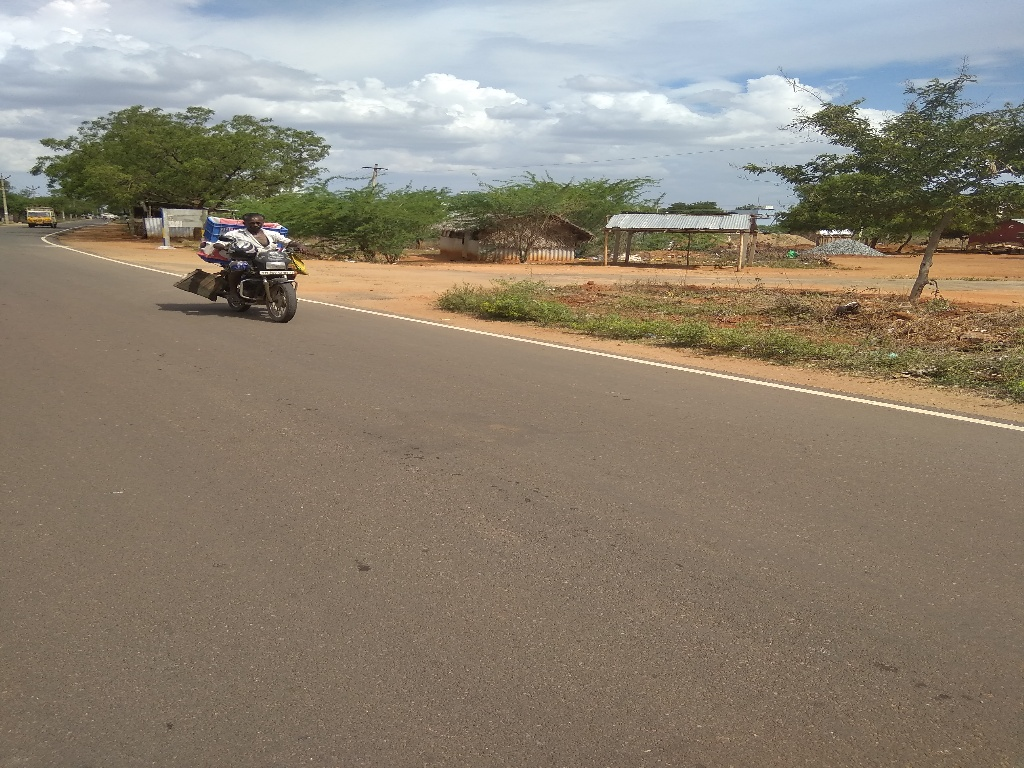biker: (201, 172, 325, 331)
nohelmet: (233, 199, 274, 245)
